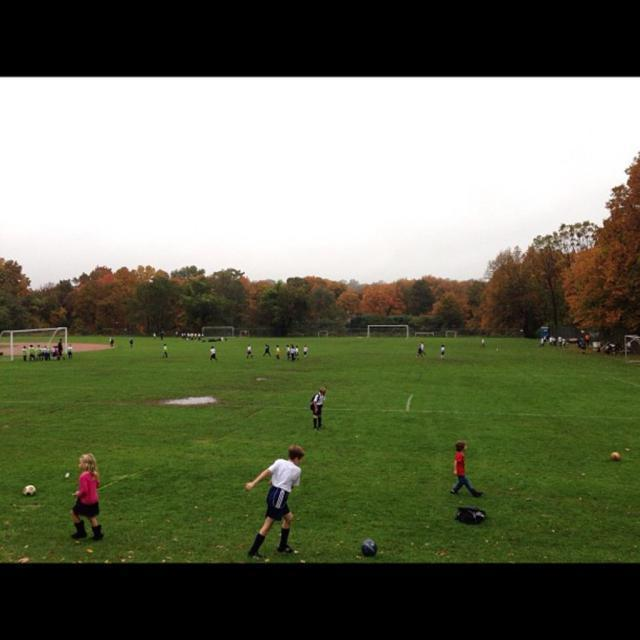football: (353, 530, 411, 564), (22, 474, 37, 500)
